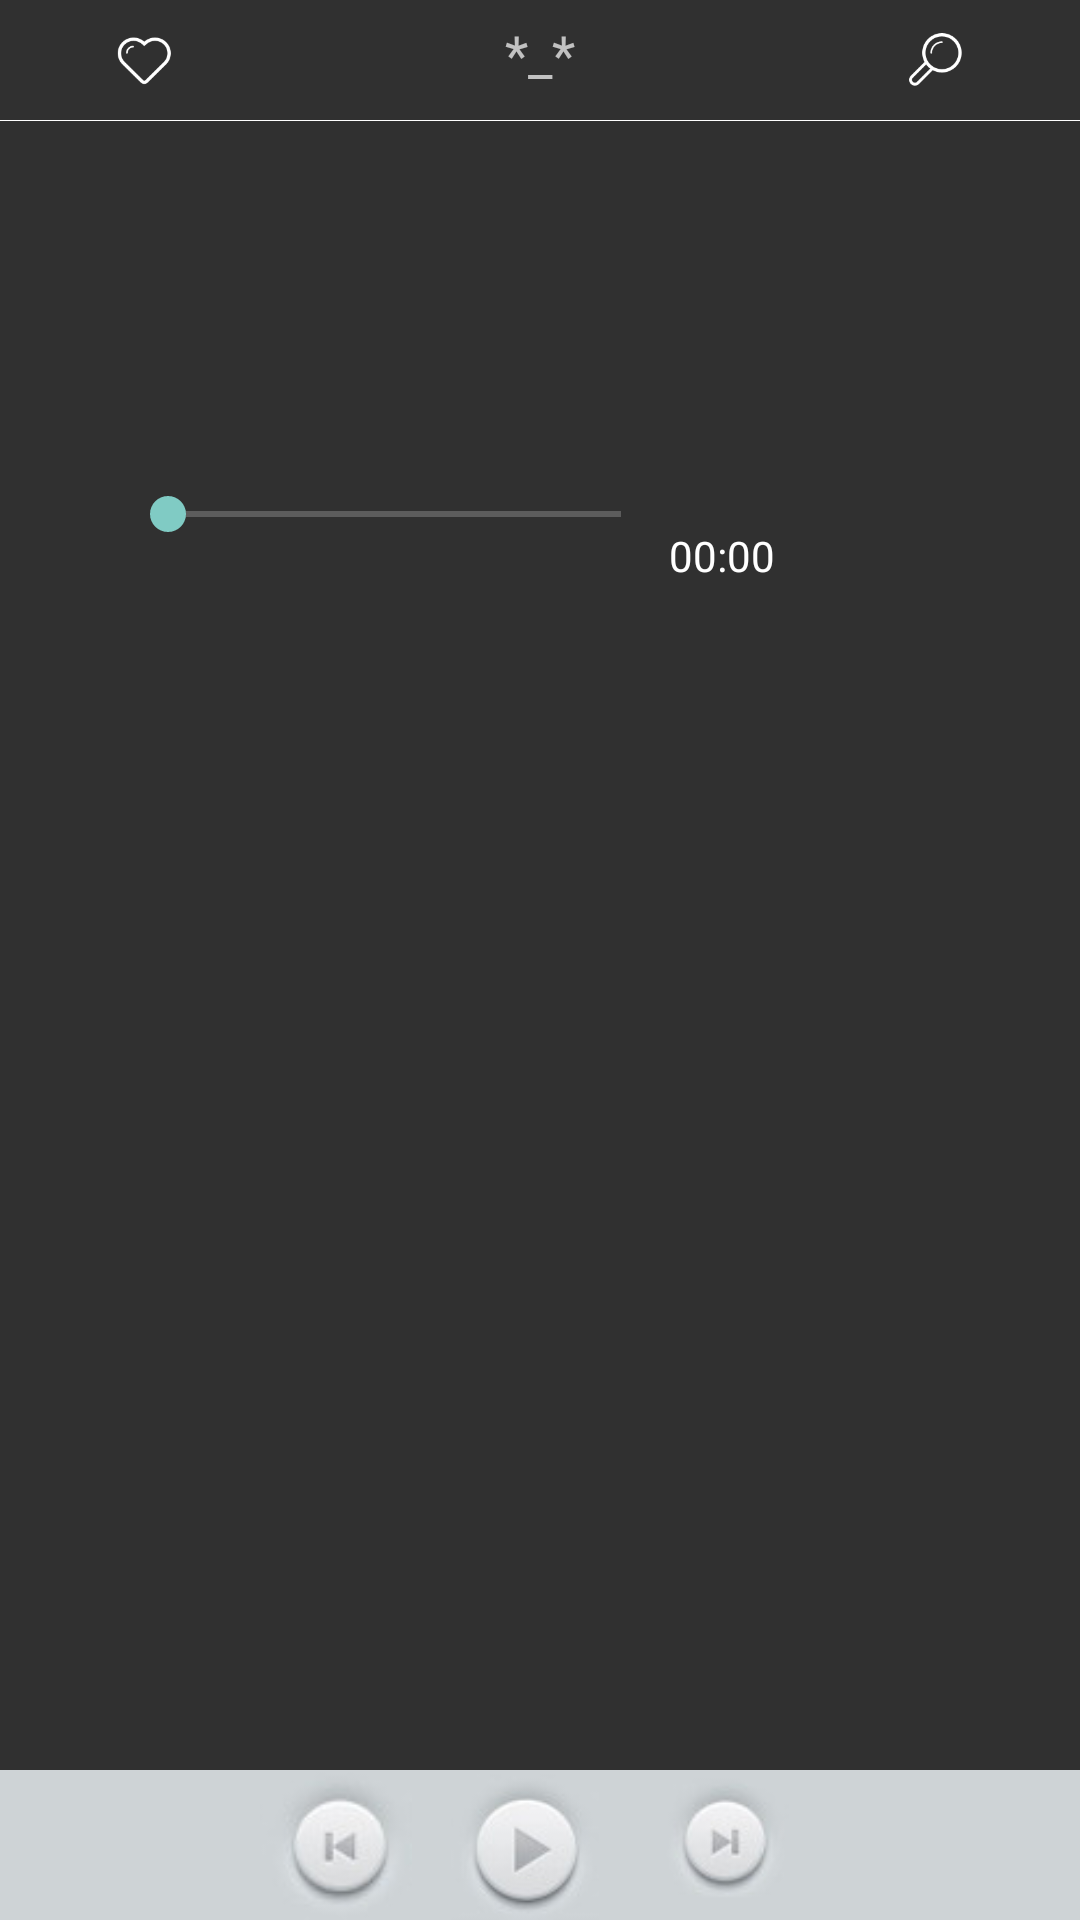

Icon click points for this 1080px×1920px phone screenshot, format (x,y):
last: (338,1843)
love: (144,60)
next: (725,1842)
play: (527,1852)
search: (935,59)
